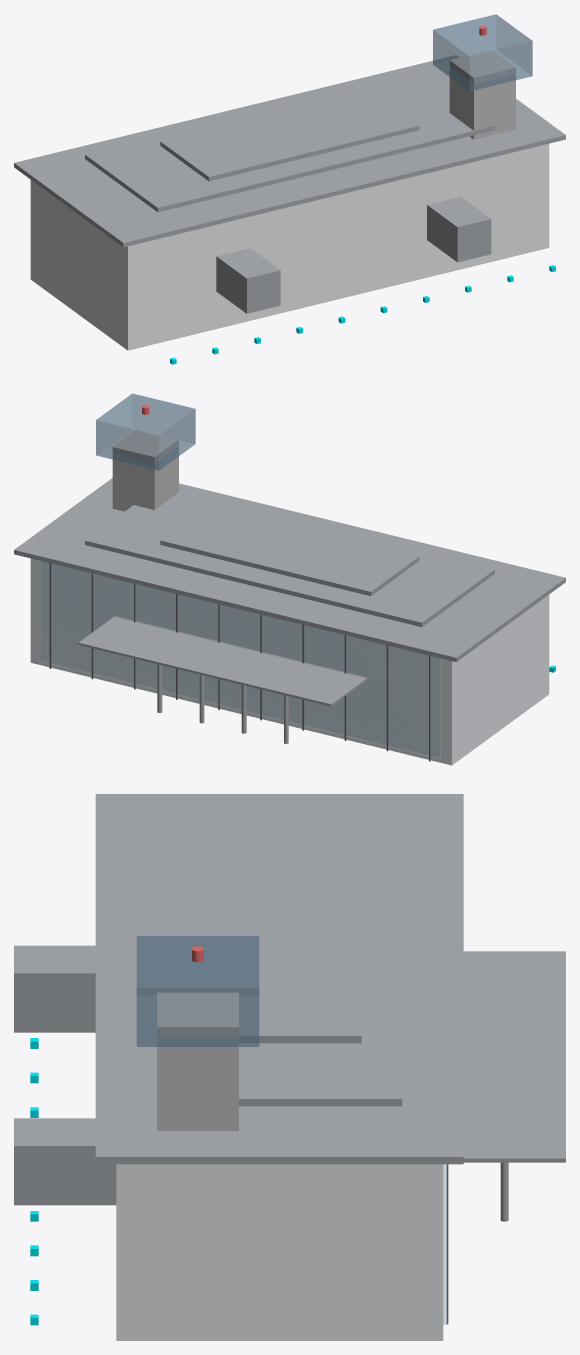
The model's file is airport_terminal.fbx.
The picture shows the model from 3 angles, top to bottom: view 1: azimuth 30°, elevation 25°; view 2: azimuth 150°, elevation 25°; view 3: azimuth 270°, elevation 25°; orthographic projection. The views are drawn at different scales.
Visible parts, largest first — view 1: MainBody, RoofLow, RoofMid, RoofHigh, ControlTop, ControlBase, Bridge_2, Bridge_1; view 2: MainBody, GlassFront, RoofLow, RoofMid, RoofHigh, Canopy, ControlTop, ControlBase; view 3: RoofLow, MainBody, RoofMid, RoofHigh, Canopy, ControlTop, ControlBase, Bridge_2, Bridge_1.
Boxes of the visible parts, x1=… form: MainBody: x1=30, y1=143, x2=549, y2=350; RoofLow: x1=14, y1=55, x2=565, y2=247; RoofMid: x1=85, y1=72, x2=494, y2=212; RoofHigh: x1=160, y1=90, x2=419, y2=181; ControlTop: x1=433, y1=14, x2=532, y2=91; ControlBase: x1=449, y1=50, x2=515, y2=139; Bridge_2: x1=427, y1=196, x2=491, y2=262; Bridge_1: x1=216, y1=248, x2=280, y2=313; MainBody: x1=30, y1=558, x2=549, y2=765; GlassFront: x1=40, y1=561, x2=441, y2=759; RoofLow: x1=14, y1=478, x2=565, y2=662; RoofMid: x1=85, y1=492, x2=494, y2=626; RoofHigh: x1=160, y1=505, x2=419, y2=596; Canopy: x1=78, y1=616, x2=367, y2=706; ControlTop: x1=96, y1=393, x2=195, y2=470; ControlBase: x1=112, y1=429, x2=178, y2=511; RoofLow: x1=95, y1=794, x2=463, y2=1164; MainBody: x1=116, y1=1164, x2=443, y2=1340; RoofMid: x1=157, y1=822, x2=402, y2=1106; RoofHigh: x1=198, y1=863, x2=361, y2=1043; Canopy: x1=463, y1=951, x2=565, y2=1162; ControlTop: x1=136, y1=936, x2=259, y2=1046; ControlBase: x1=157, y1=992, x2=238, y2=1130; Bridge_2: x1=14, y1=1118, x2=116, y2=1205; Bridge_1: x1=14, y1=945, x2=95, y2=1032.
Bounding box in the file's own units: 21 × 9.65 × 13.5.
